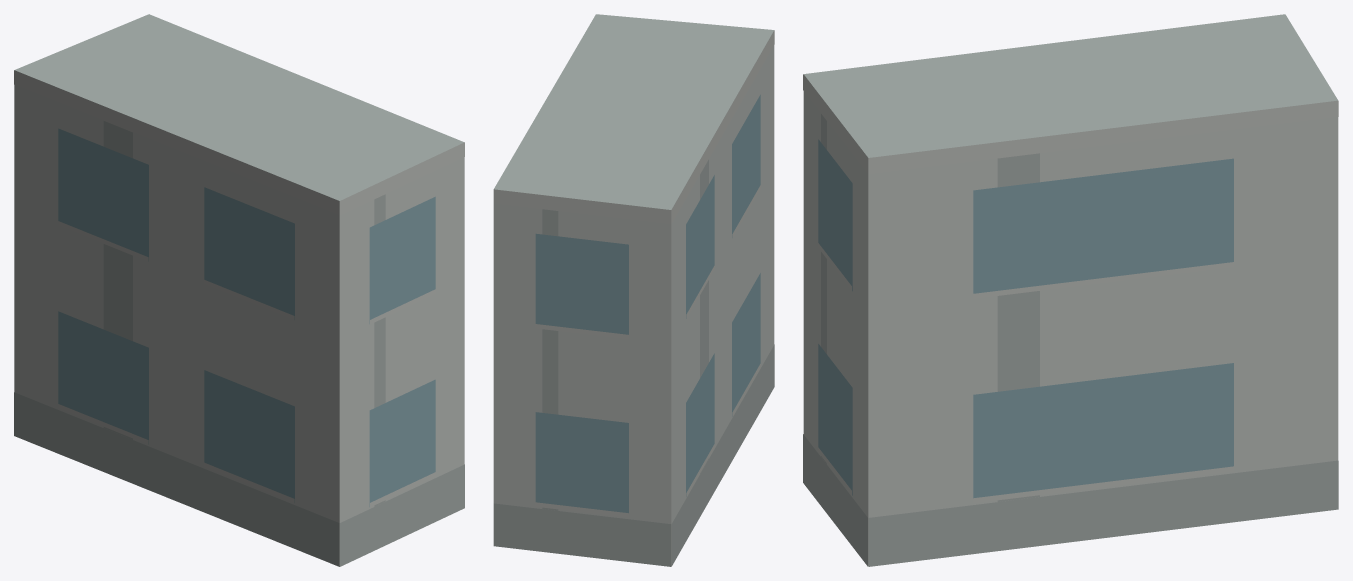
The model's file is survey-upis-32755737.glb.
The picture shows the model from 3 angles, left to right: view 1: azimuth 30°, elevation 25°; view 2: azimuth 150°, elevation 25°; view 3: azimuth 270°, elevation 25°; orthographic projection. The views are drawn at different scales.
Parts seen in each view (by area): view 1: survey-upis-32755737.tmp; view 2: survey-upis-32755737.tmp; view 3: survey-upis-32755737.tmp.
Part boxes in pixels (bbox=[...]): survey-upis-32755737.tmp: bbox=[14, 14, 464, 566]; survey-upis-32755737.tmp: bbox=[493, 14, 774, 566]; survey-upis-32755737.tmp: bbox=[803, 14, 1338, 566].
Bounding box in the file's own units: 4.61 × 6.1 × 7.24.
